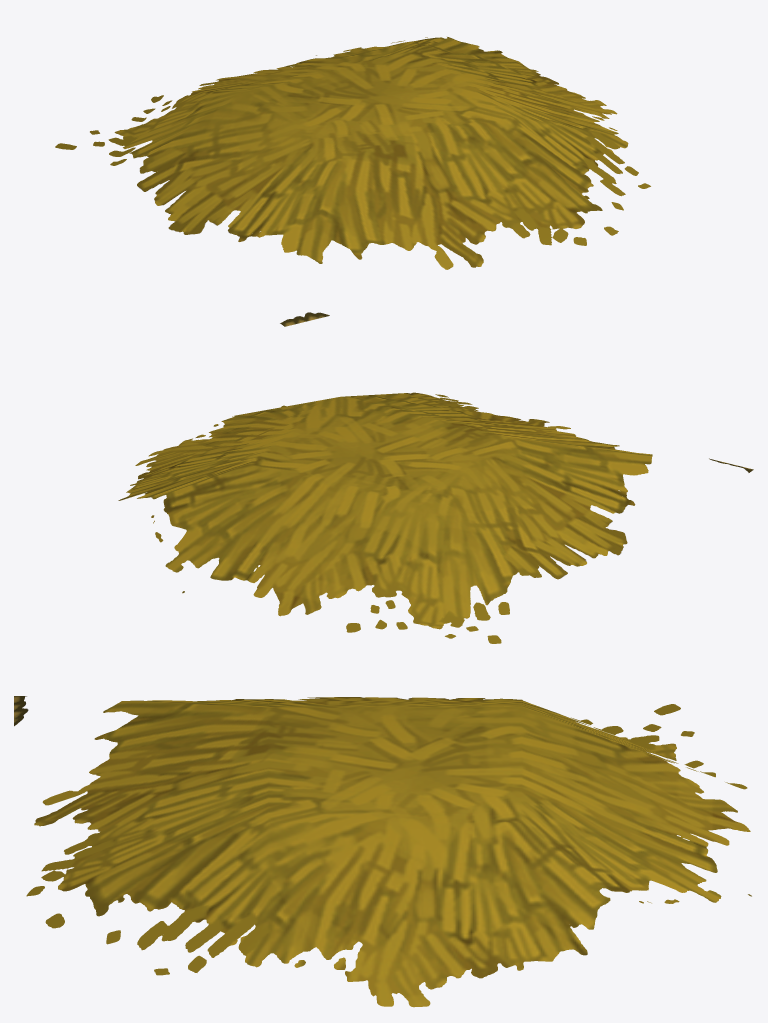
Rendered from FloorProps_HayClump_Tavern_AB.fbx.
3 views of the same model, one above another, from view 1: azimuth 30°, elevation 25°; view 2: azimuth 150°, elevation 25°; view 3: azimuth 270°, elevation 25° (orthographic). The views are drawn at different scales.
Parts seen in each view (by area): view 1: pPlane12; view 2: pPlane12; view 3: pPlane12.
Boxes of the visible parts, box(x1,y1,x2,y2) form: pPlane12: box(55, 37, 650, 326); pPlane12: box(118, 392, 753, 643); pPlane12: box(14, 696, 751, 1007).
Bounding box in the file's own units: 184 × 23.57 × 184.
